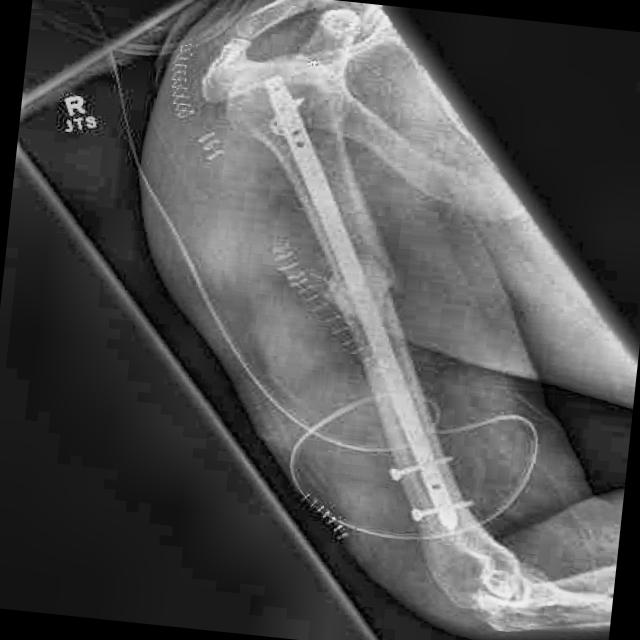humerus: (306, 255, 414, 329)
